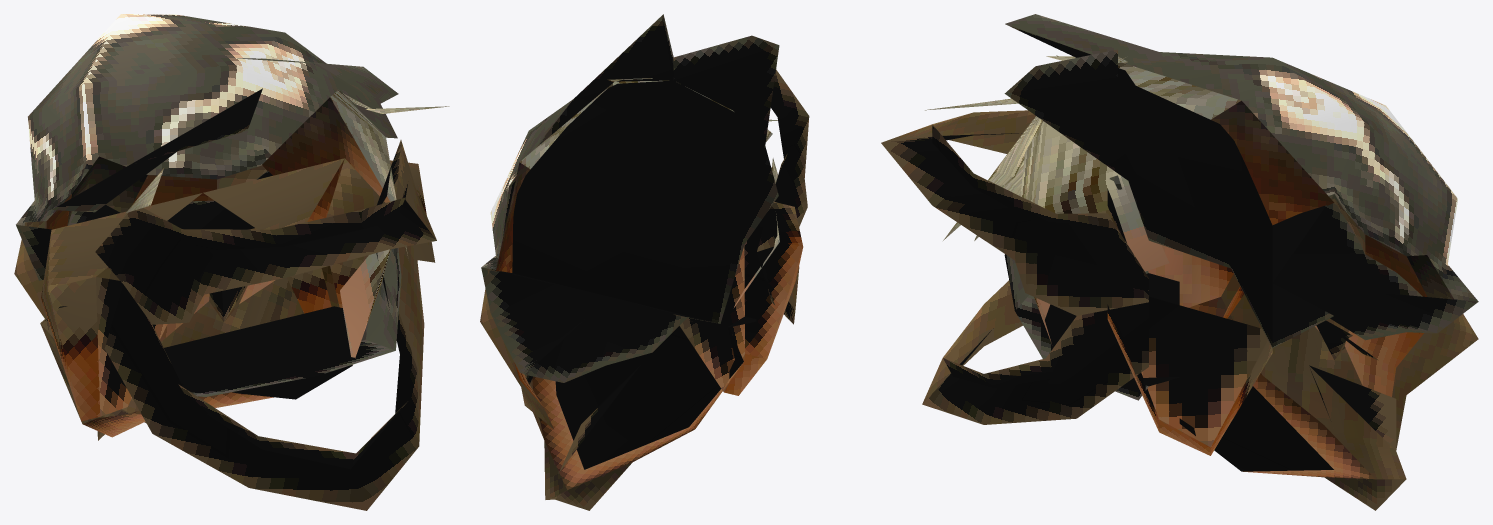
Rendered from ps2_save-icons_chaindive.glb.
The picture shows the model from 3 angles, left to right: view 1: azimuth 30°, elevation 25°; view 2: azimuth 150°, elevation 25°; view 3: azimuth 270°, elevation 25°; orthographic projection. The views are drawn at different scales.
Parts seen in each view (by area): view 1: chain_n.ico; view 2: chain_n.ico; view 3: chain_n.ico.
Part boxes in pixels (left/top/right/bottom): chain_n.ico: left=14, top=14, right=449, bottom=510; chain_n.ico: left=480, top=14, right=809, bottom=510; chain_n.ico: left=881, top=14, right=1478, bottom=510.
Bounding box in the file's own units: 3.2 × 3.92 × 4.8.
1 material, 1 textured.
